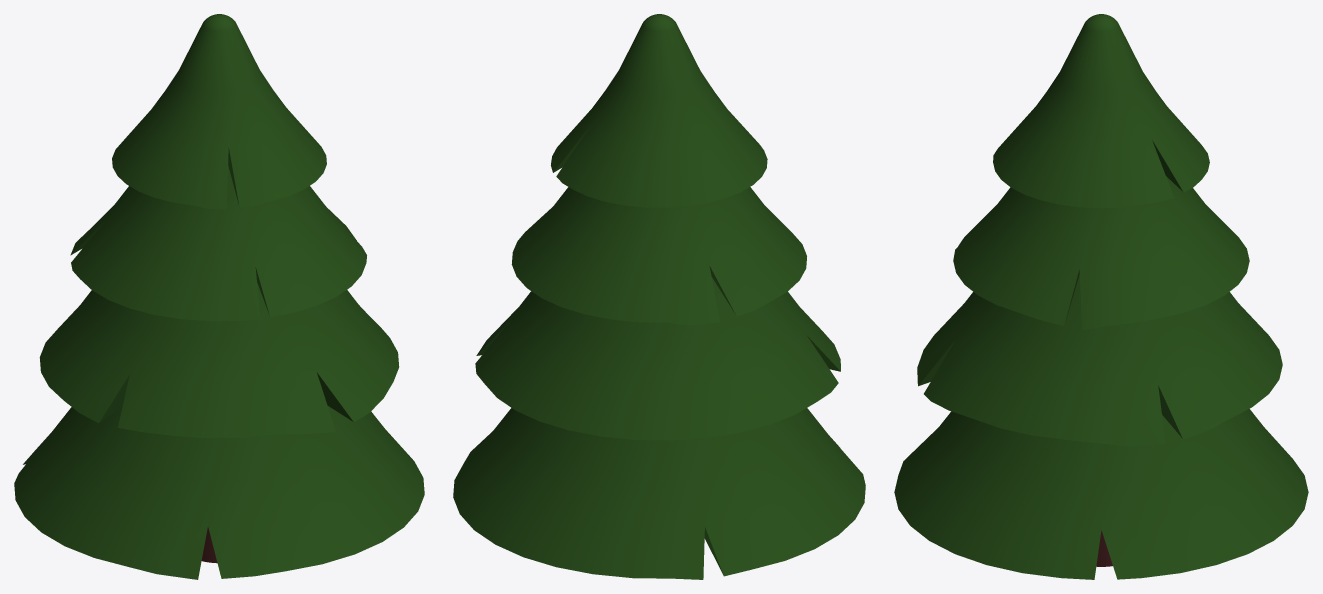
File: evergreen_tree.gltf
The picture shows the model from 3 angles, left to right: view 1: azimuth 30°, elevation 25°; view 2: azimuth 150°, elevation 25°; view 3: azimuth 270°, elevation 25°; orthographic projection.
Visible parts, largest first — view 1: Circle.2066; view 2: Circle.2066; view 3: Circle.2066.
Part boxes in pixels (x1,y1,x2,y2): Circle.2066: (14,14,424,579); Circle.2066: (453,14,865,579); Circle.2066: (894,14,1308,579).
Bounding box in the file's own units: 1.51 × 2.14 × 1.5.
1 material, 1 textured.
